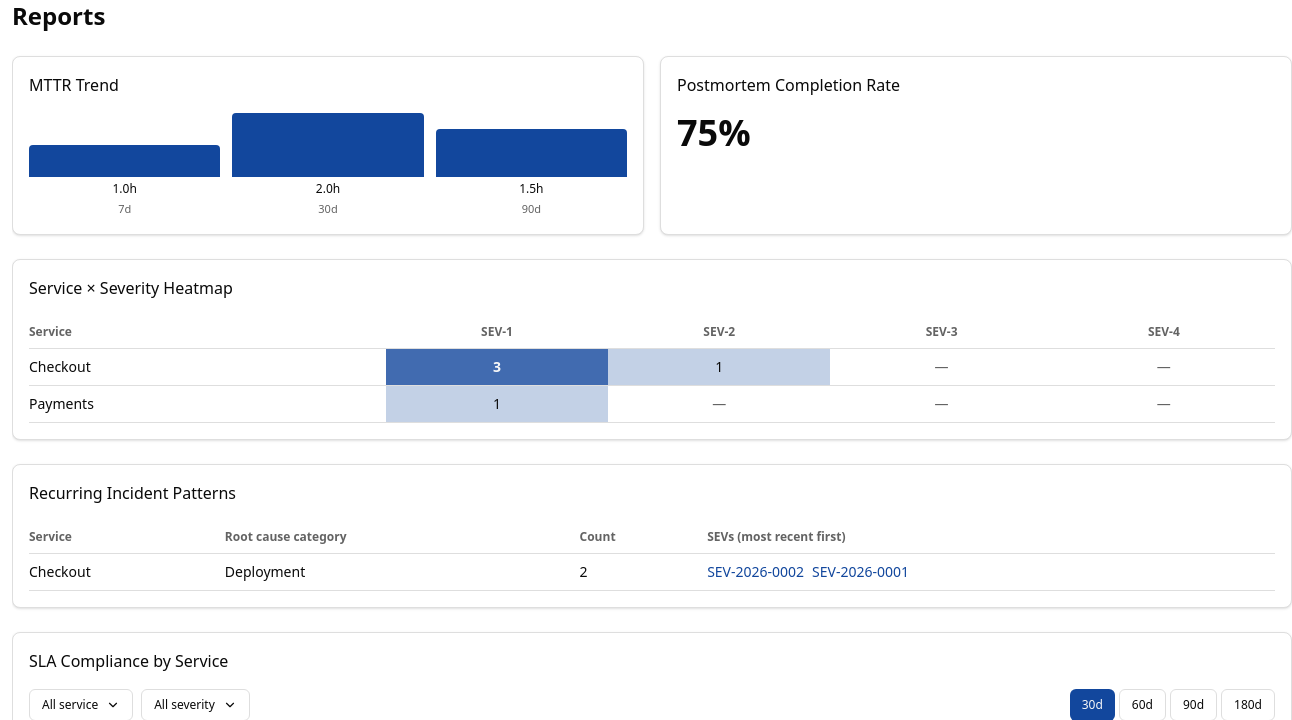
Test case: ReportsPage › SLA Compliance by Service › selecting a severity narrows the rendered rows without refetching
Click the button "All severity": (196, 704) x1=141 y1=688 x2=250 y2=719
(page scrolled)
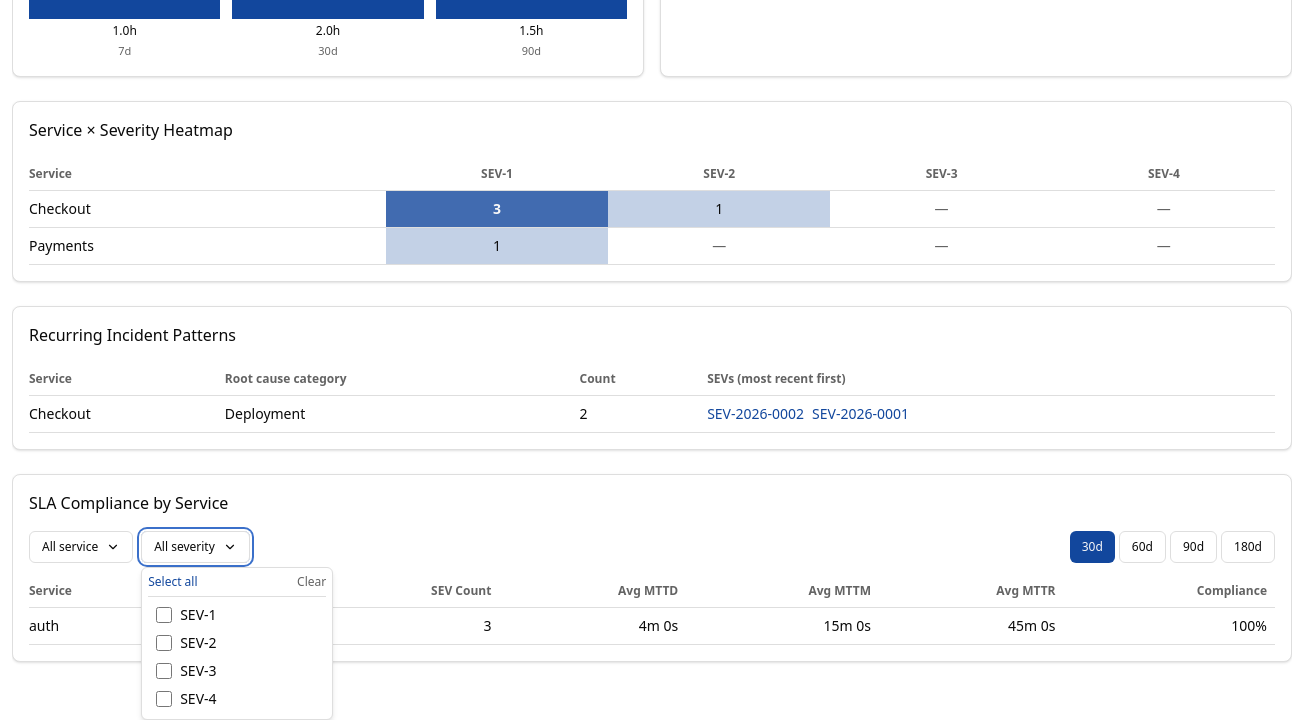
Click the checkbox labelled "SEV-3": (164, 670) x1=156 y1=662 x2=172 y2=678
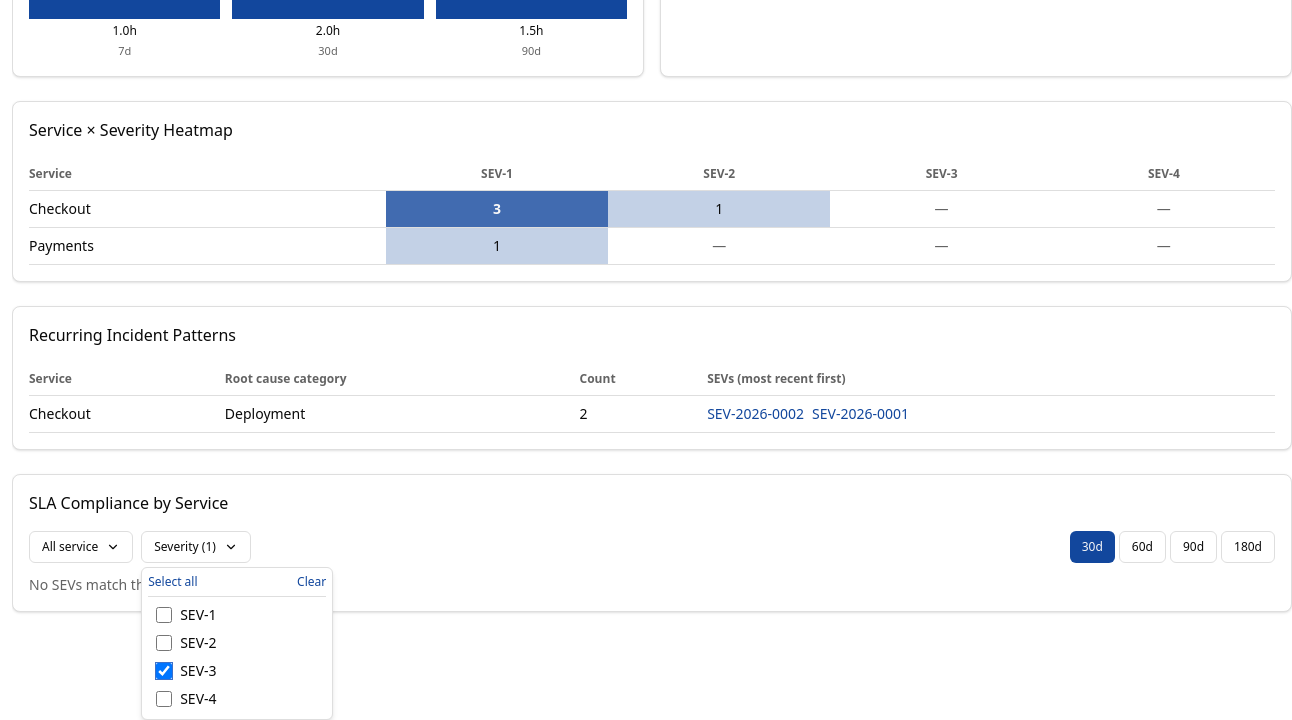
Expected: the text "No SEVs match the selected filters." is shown, x1=29 y1=574 x2=255 y2=594
